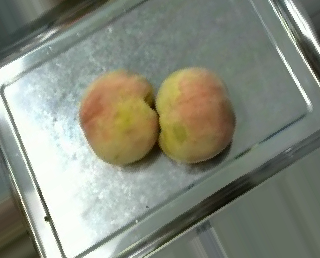Peach: (155, 64, 234, 164), (79, 69, 158, 166)
